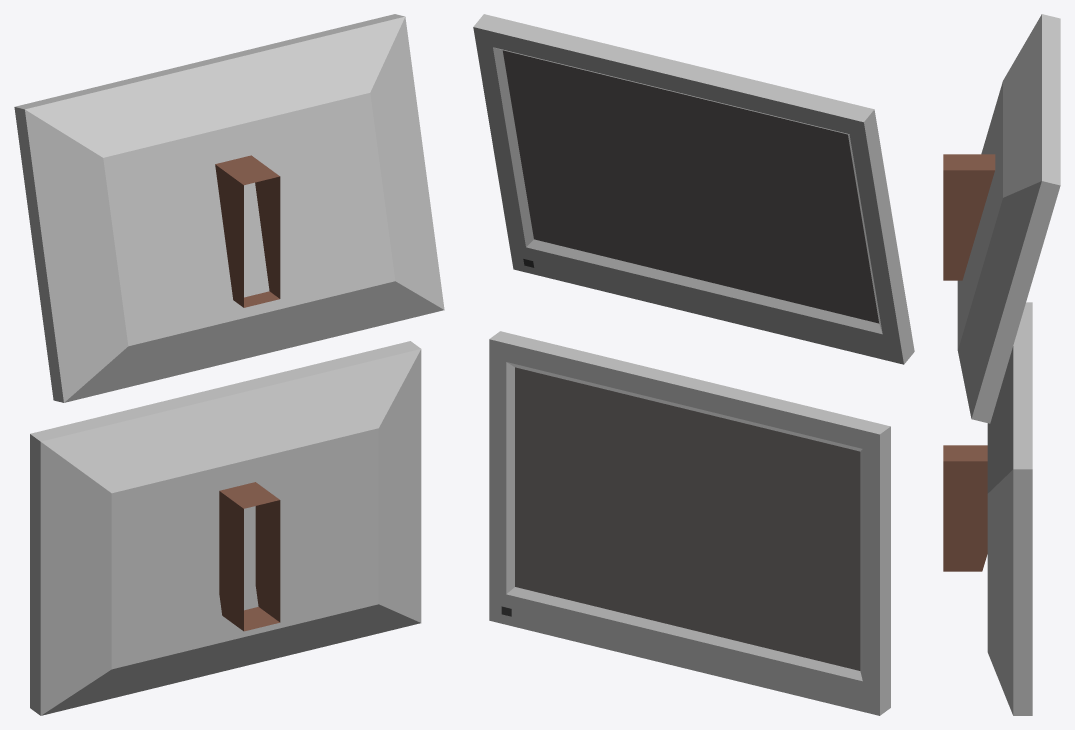
3 views of the same model, side by side, from view 1: azimuth 30°, elevation 25°; view 2: azimuth 150°, elevation 25°; view 3: azimuth 270°, elevation 25° (orthographic). The views are drawn at different scales.
Visible parts, largest first — view 1: SM_TV_01; view 2: SM_TV_01; view 3: SM_TV_01.
Part boxes in pixels (left/top/right/bottom): SM_TV_01: left=14, top=14, right=444, bottom=715; SM_TV_01: left=473, top=14, right=914, bottom=715; SM_TV_01: left=943, top=14, right=1060, bottom=715.
Size of the model in its own units: 129 by 193 by 38.28.
1 material, 1 textured.
